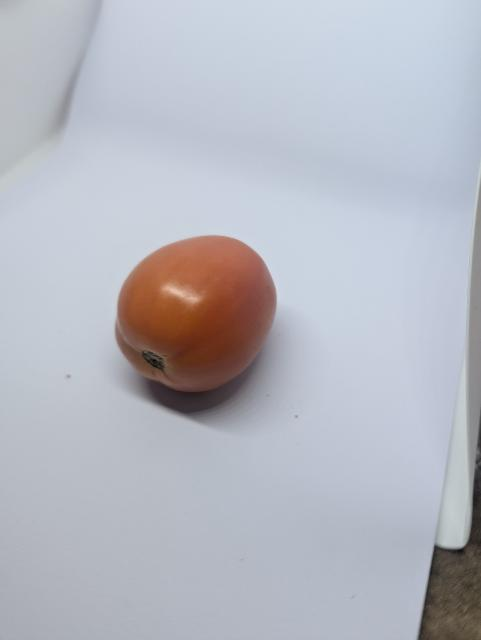red: (100, 219, 305, 419)
